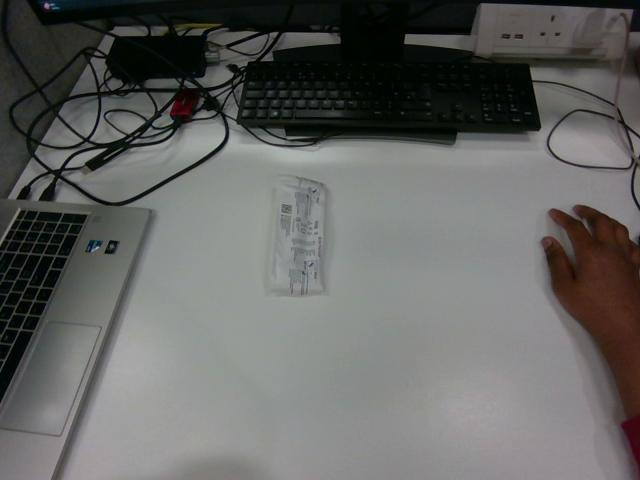syringe: (267, 175, 325, 295)
